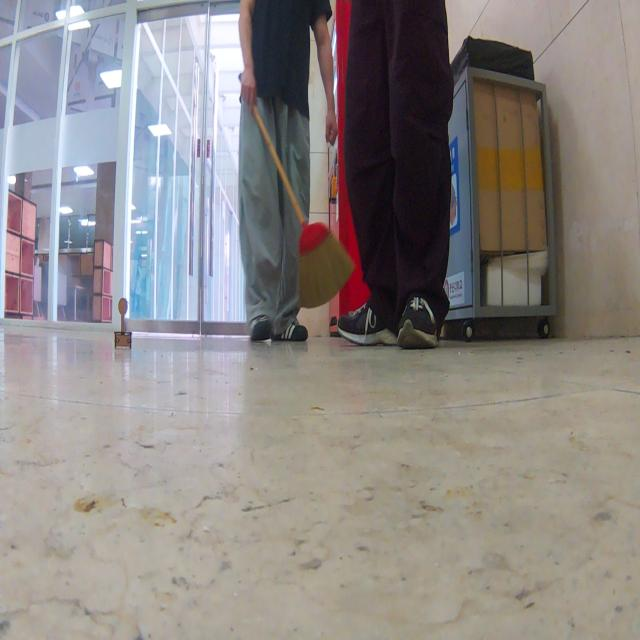target: (114, 298, 132, 349)
